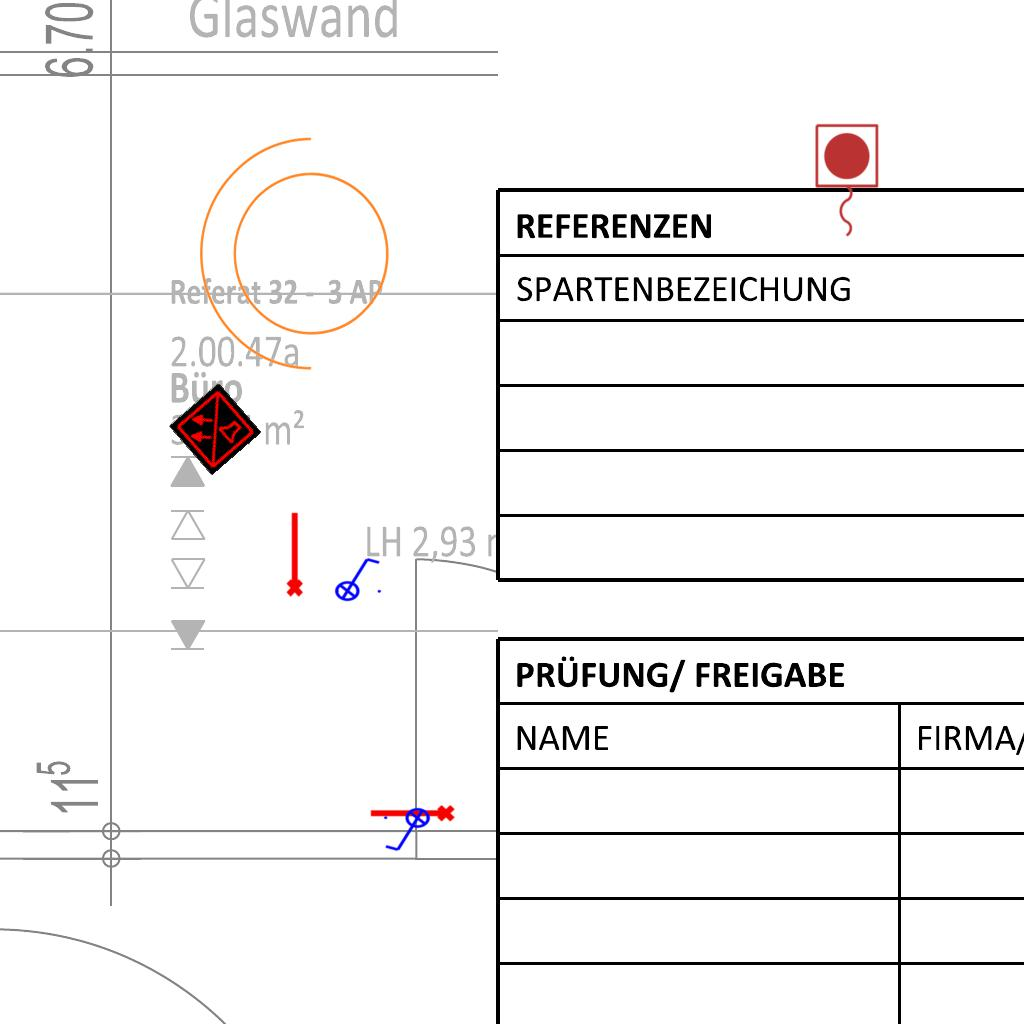ASR_Ansaugoeffnung: (282, 510, 305, 598), (368, 803, 456, 826)
Ausschalter_beleuchtet: (328, 554, 384, 602), (381, 807, 437, 855)
OKW_Multisensormelder_(Kombination_optischer_Rauch-Kahlenmonoxid_Waerme-Melder): (168, 382, 262, 476)
Scheinwerfer_fuer_Alarmbeleuchtung: (189, 128, 414, 392)
Zugtaster: (810, 120, 882, 242)
